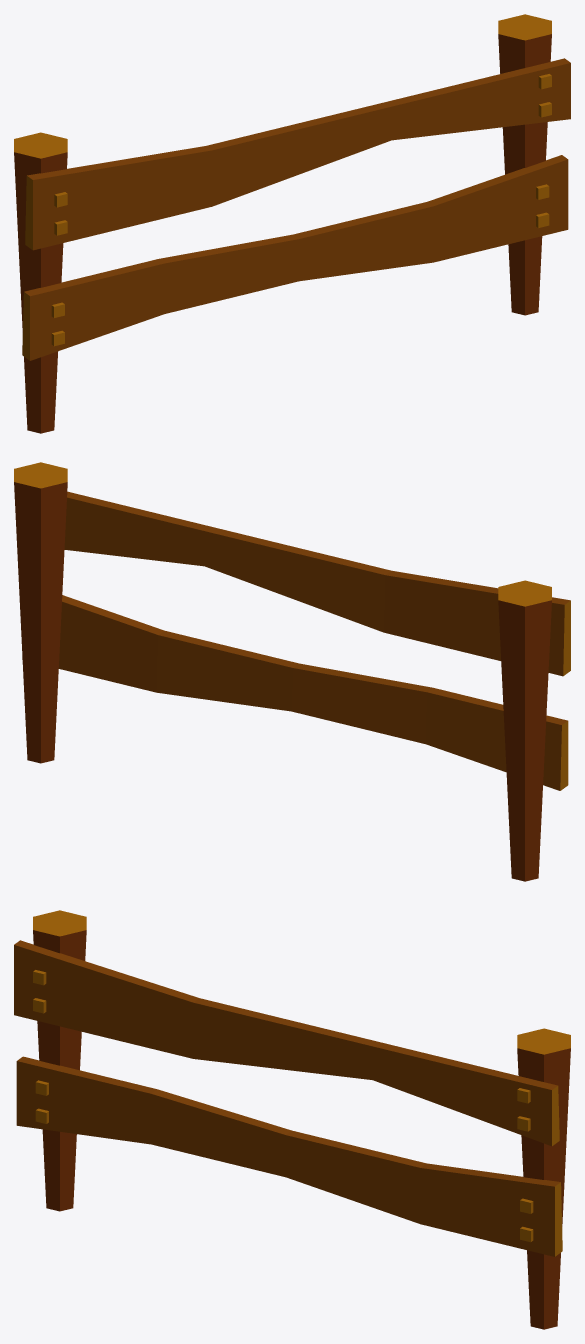
The model's file is Fence_01_1.fbx.
3 views of the same model, one above another, from view 1: azimuth 30°, elevation 25°; view 2: azimuth 150°, elevation 25°; view 3: azimuth 330°, elevation 25° (orthographic).
Visible parts, largest first — view 1: Fence_1; view 2: Fence_1; view 3: Fence_1.
Part boxes in pixels (left/top/right/bottom): Fence_1: left=14, top=14, right=570, bottom=433; Fence_1: left=14, top=462, right=570, bottom=881; Fence_1: left=14, top=910, right=570, bottom=1329.
Bounding box in the file's own units: 200 × 100 × 22.46.
1 material, 1 textured.
